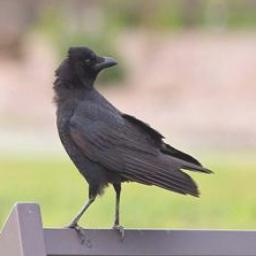Crow: (51, 44, 216, 242)
